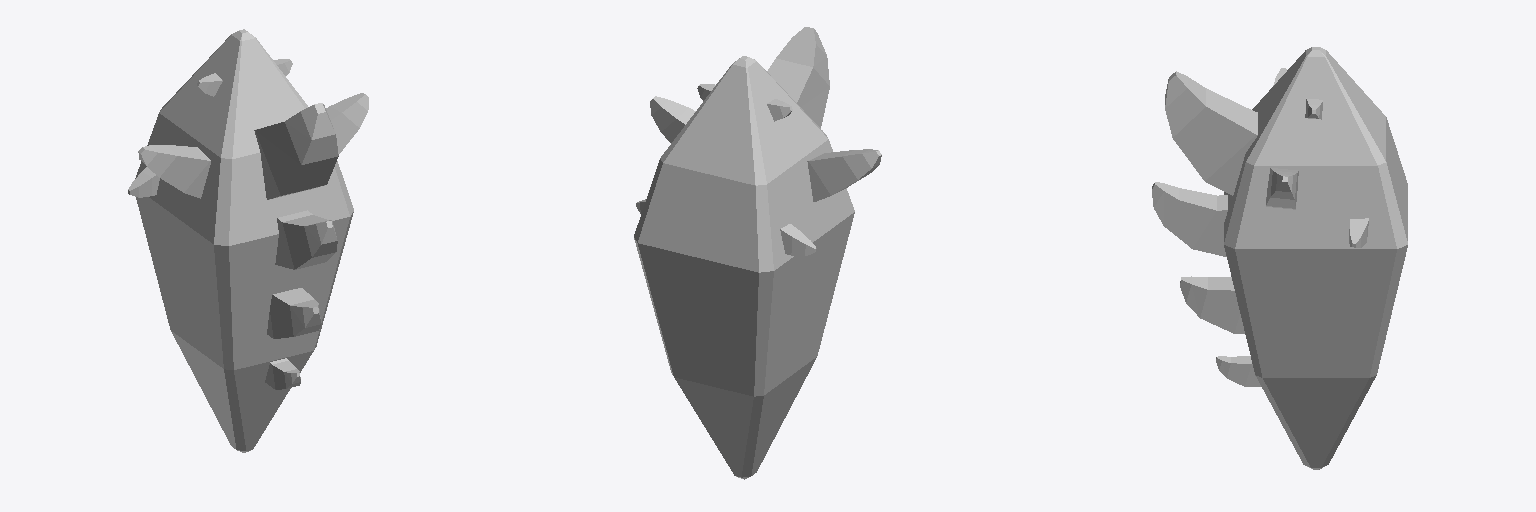
Rendered from mBoss.obj.
3 renders of one model, left to right at view 1: azimuth 30°, elevation 25°; view 2: azimuth 150°, elevation 25°; view 3: azimuth 270°, elevation 25°, orthographic.
Parts seen in each view (by area): view 1: mBoss; view 2: mBoss; view 3: mBoss.
Boxes of the visible parts, x1=… form: mBoss: x1=128, y1=29, x2=368, y2=452; mBoss: x1=634, y1=27, x2=881, y2=479; mBoss: x1=1152, y1=47, x2=1407, y2=469.
Size of the model in its own units: 4.24 by 7.44 by 4.12.